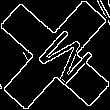M_SW: (21, 21, 89, 89)
